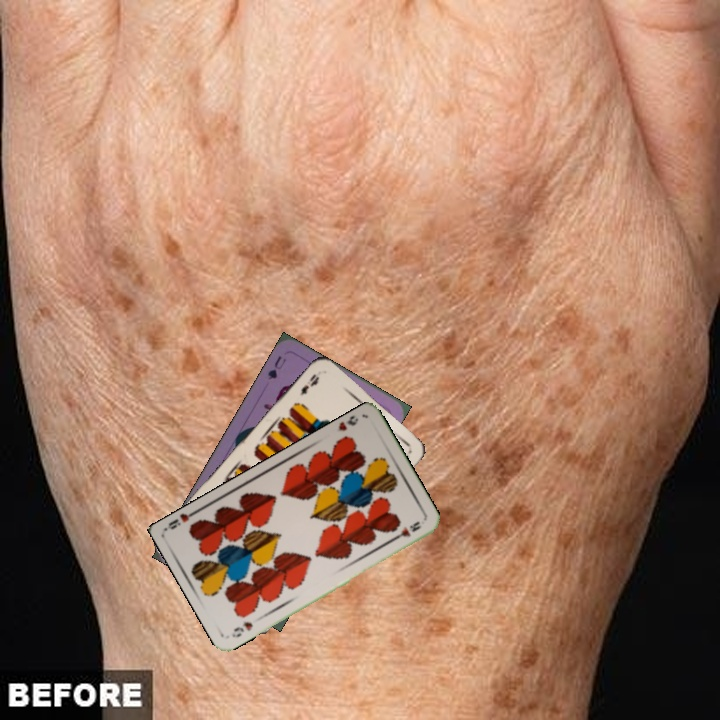E9: (296, 370, 322, 398)
GU: (263, 352, 289, 383)
H9: (228, 617, 256, 640), (334, 413, 361, 433)
